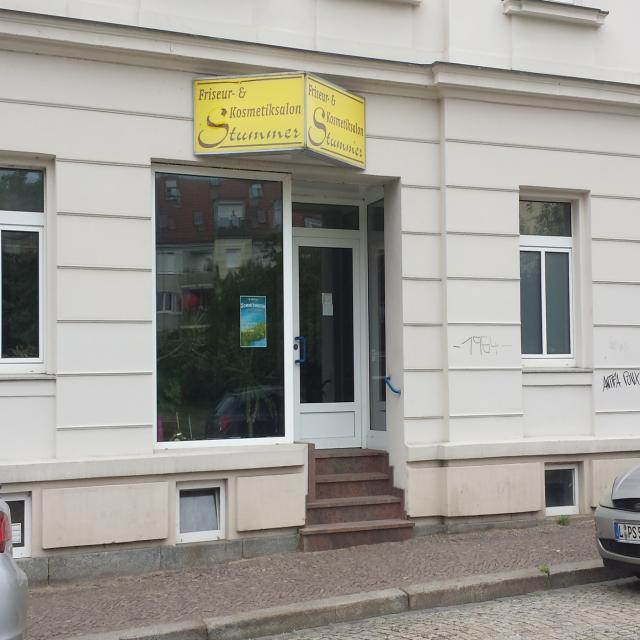AVOID: (294, 449, 415, 546)
